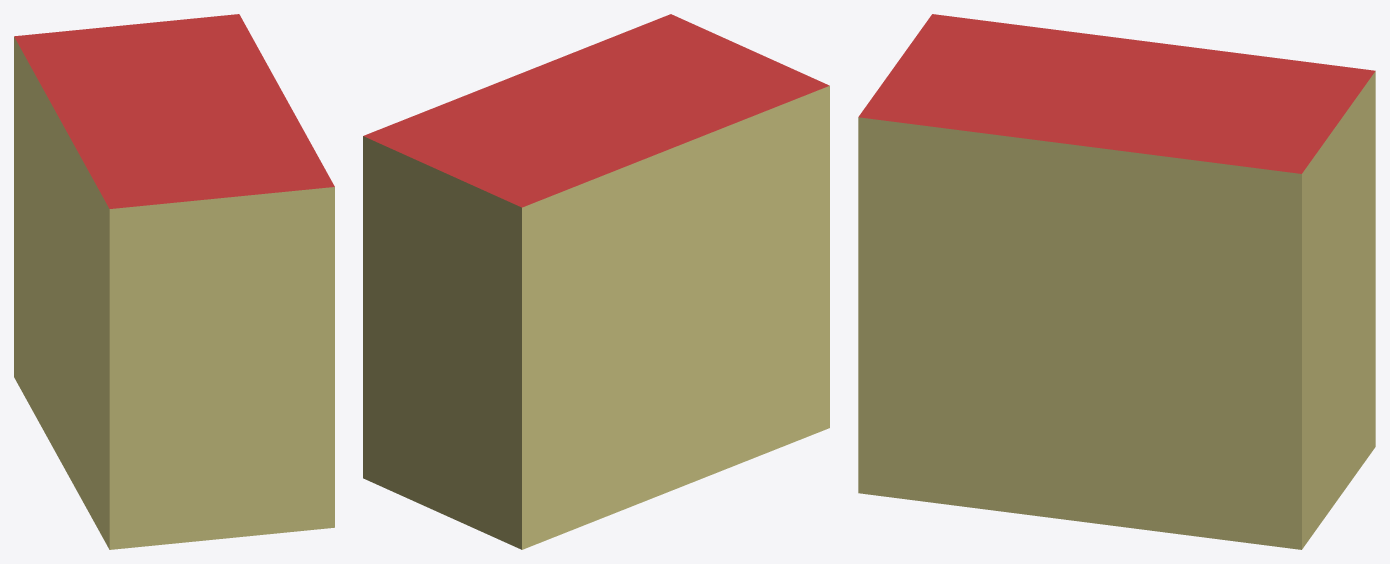
The picture shows the model from 3 angles, left to right: view 1: azimuth 30°, elevation 25°; view 2: azimuth 150°, elevation 25°; view 3: azimuth 270°, elevation 25°; orthographic projection. The views are drawn at different scales.
Parts seen in each view (by area): view 1: group_4, group_3; view 2: group_4, group_3; view 3: group_4, group_3.
Part boxes in pixels (x1,y1,x2,y2): group_4: (14, 37, 334, 549); group_3: (14, 14, 334, 208); group_4: (363, 86, 829, 549); group_3: (363, 14, 829, 207); group_4: (858, 71, 1375, 549); group_3: (858, 14, 1375, 173).
Bounding box in the file's own units: 4.98 × 6.8 × 5.45.
